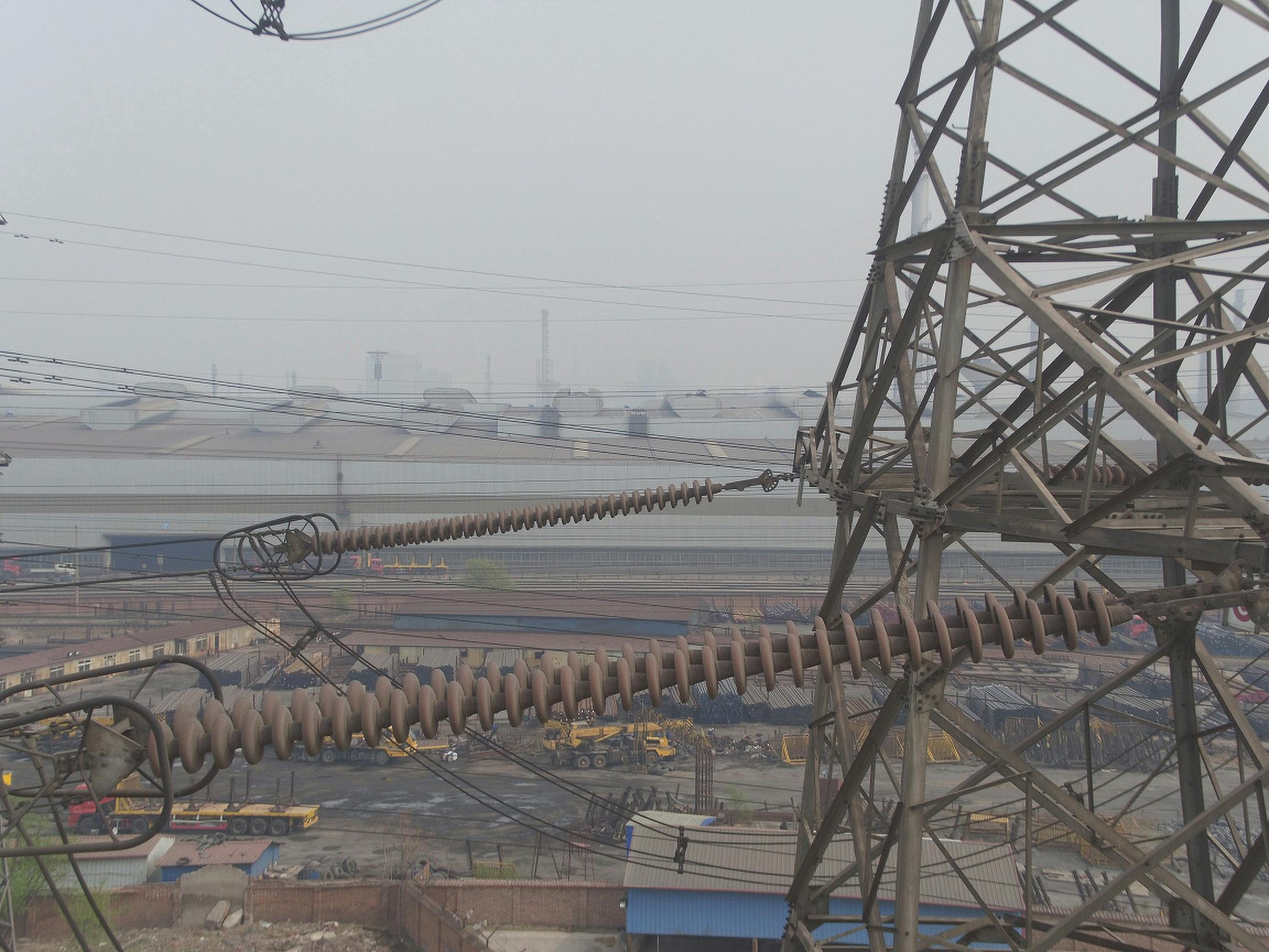insulator: (142, 572, 1117, 784), (309, 474, 716, 559), (1049, 458, 1161, 484)
